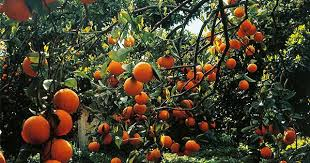orange: (43, 111, 73, 135), (22, 117, 49, 143), (52, 88, 80, 113), (131, 64, 153, 85), (121, 77, 144, 95)
